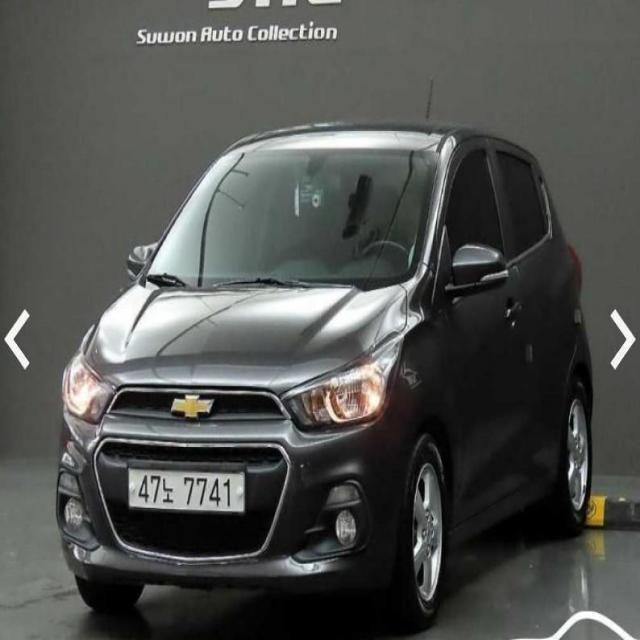car: (51, 108, 602, 640)
illegal_plate: (128, 465, 246, 524)
